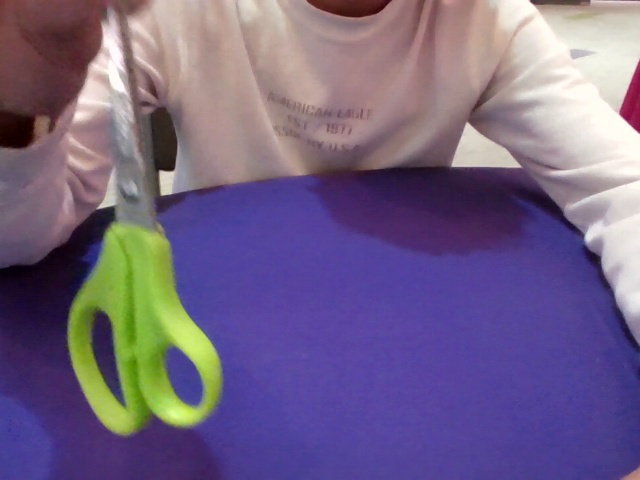tijeras: (68, 70, 224, 437)
